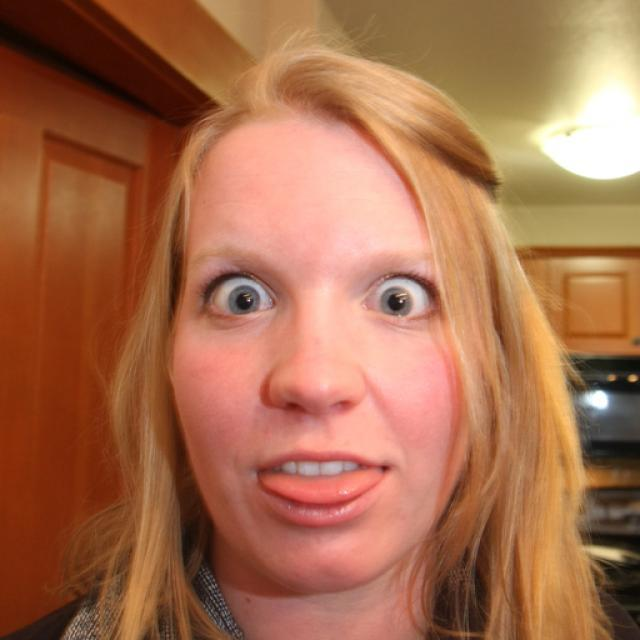surprise: (170, 131, 478, 595)
